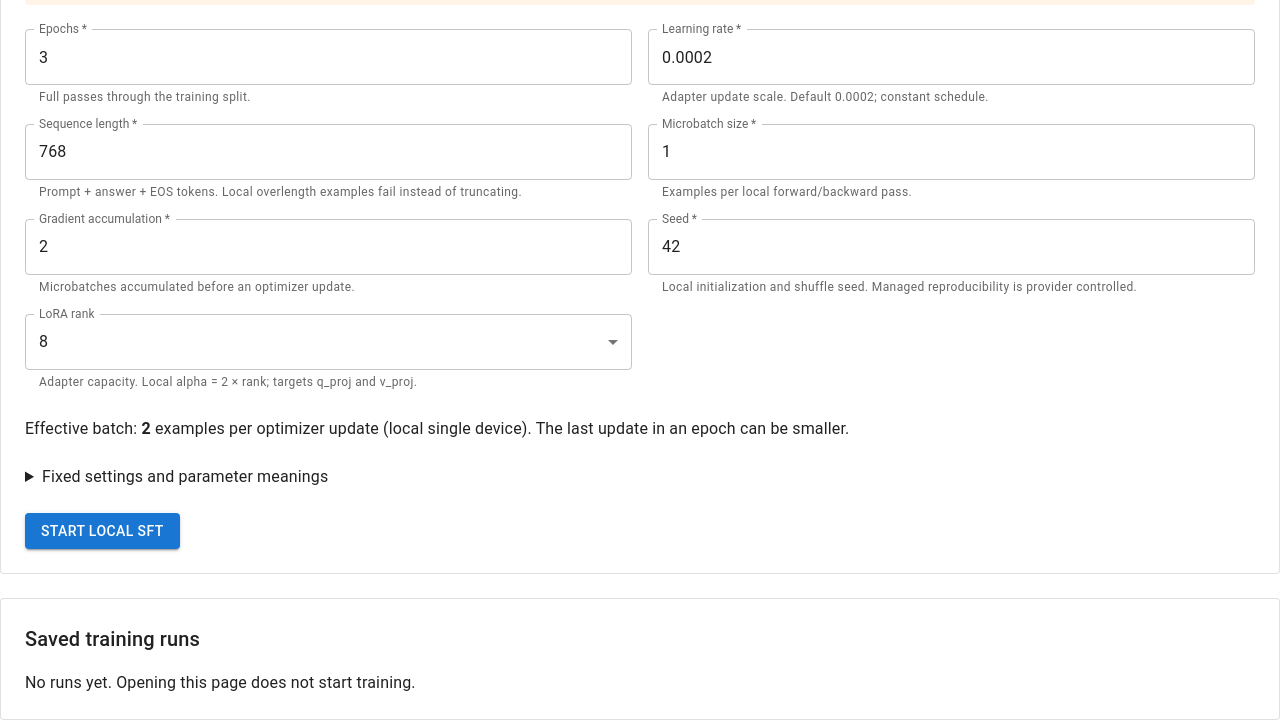
Test: submits explicit hyperparameters then shows measured regression and gradient history
(page scrolled)
Step 1. Click the button "Start local SFT" → (102,531), box [25,513,180,549]
(page scrolled)
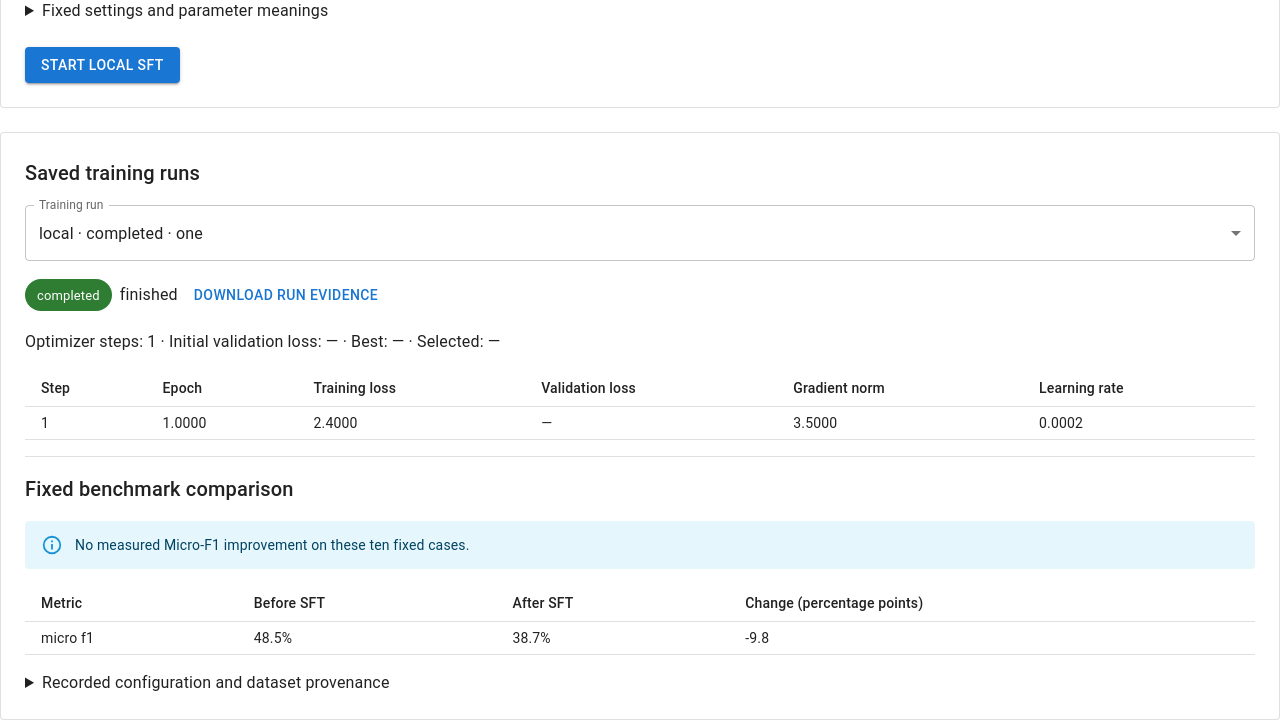
Result: the text "No measured Micro-F1 improvement on these ten fixed cases." is shown at [75,537,470,553]
Result: the text "-9.8" is shown at [729,621,1255,654]
Result: the table named "Loss by optimizer step" is shown at [25,370,1255,440]
